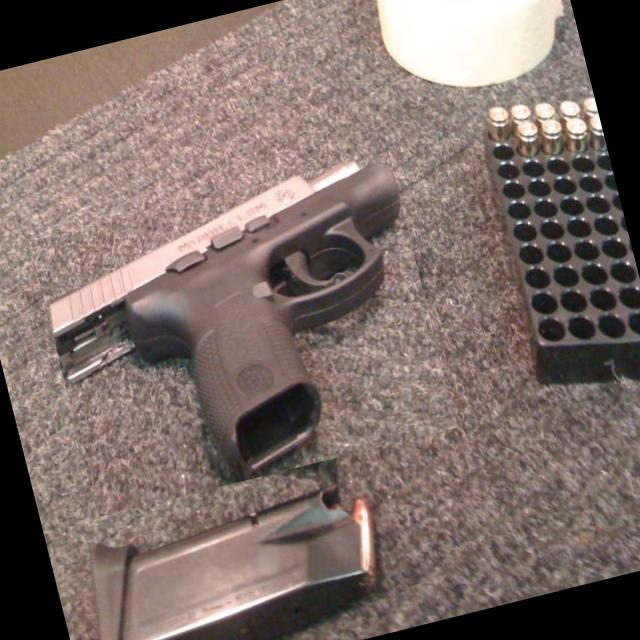Gun: (51, 162, 400, 481)
